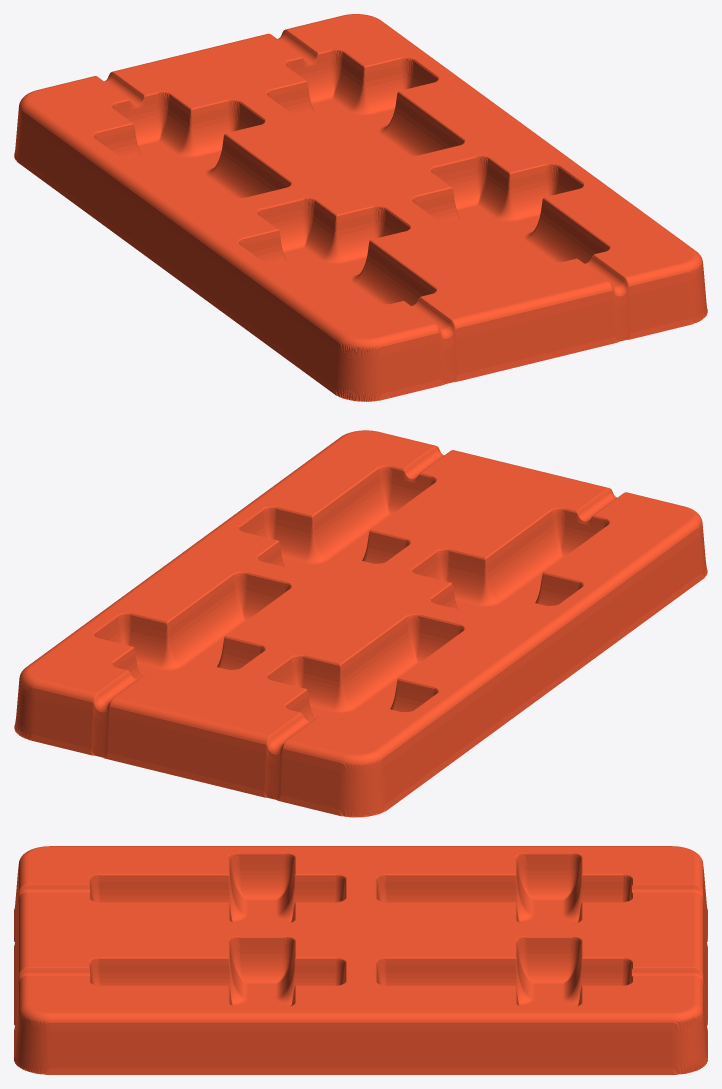
The model's file is mold.glb.
3 renders of one model, top to bottom at view 1: azimuth 30°, elevation 25°; view 2: azimuth 150°, elevation 25°; view 3: azimuth 270°, elevation 25°, orthographic.
Parts seen in each view (by area): view 1: geometry_0; view 2: geometry_0; view 3: geometry_0.
Boxes of the visible parts, bbox=[...] form: geometry_0: bbox=[14, 14, 707, 401]; geometry_0: bbox=[14, 430, 707, 817]; geometry_0: bbox=[14, 846, 707, 1074].
Bounding box in the file's own units: 0.1051 × 0.0155 × 0.1735.
